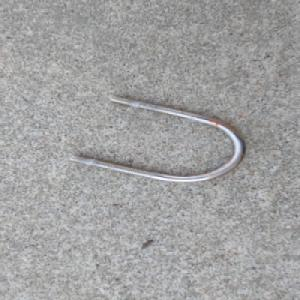ClampPart: (65, 94, 249, 184)
